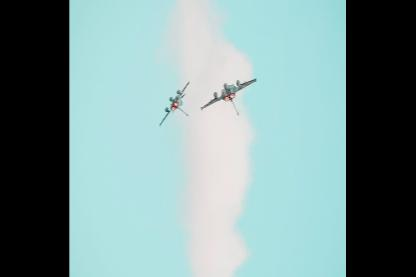RQ4: (202, 77, 258, 116), (160, 79, 190, 126)
